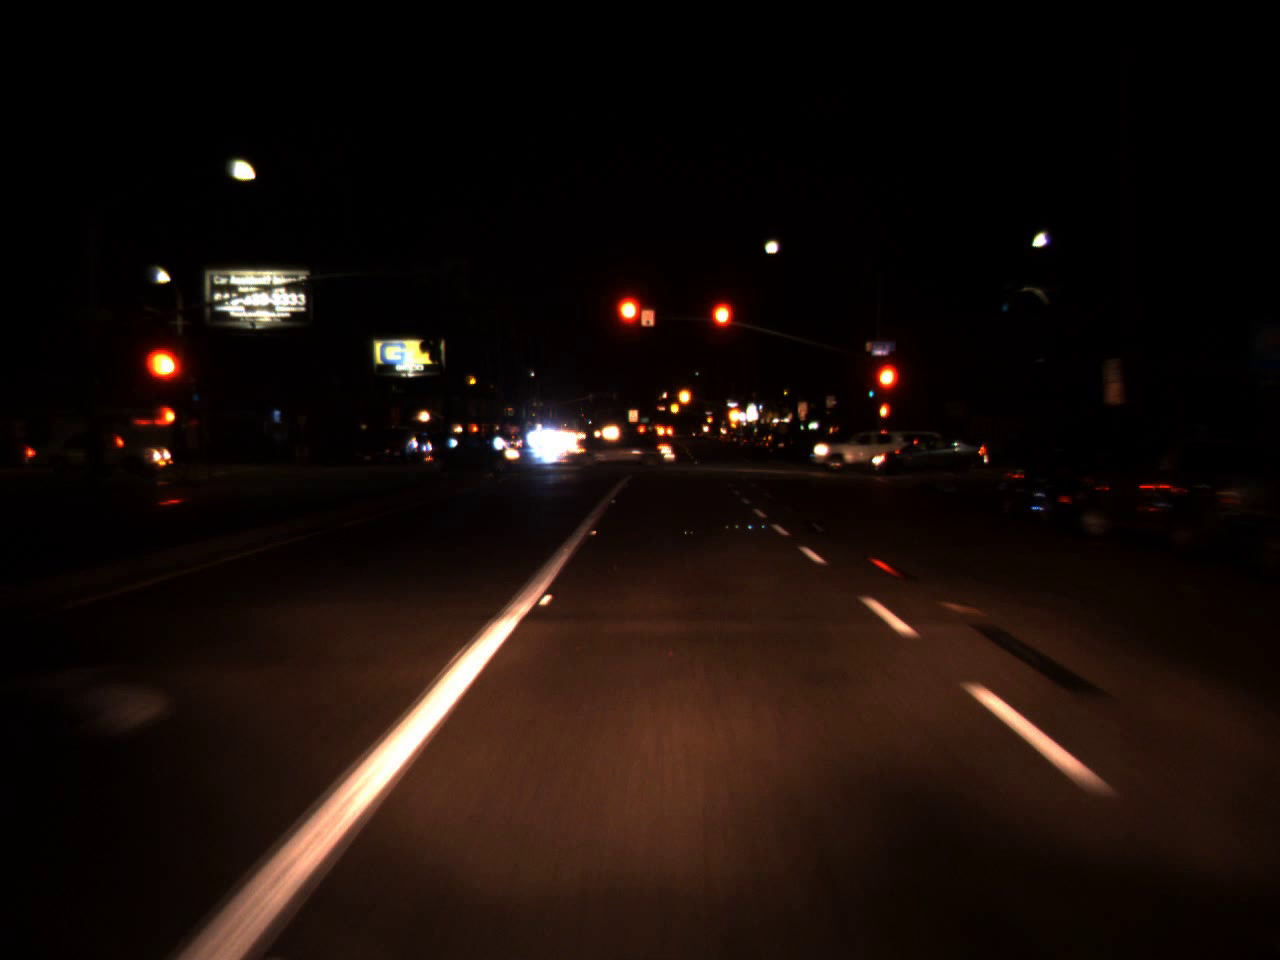stop: (142, 343, 182, 410), (612, 292, 645, 356), (873, 360, 903, 419), (708, 298, 736, 357)
warning: (676, 378, 694, 413), (725, 399, 743, 429), (669, 397, 681, 417), (707, 413, 713, 423)
